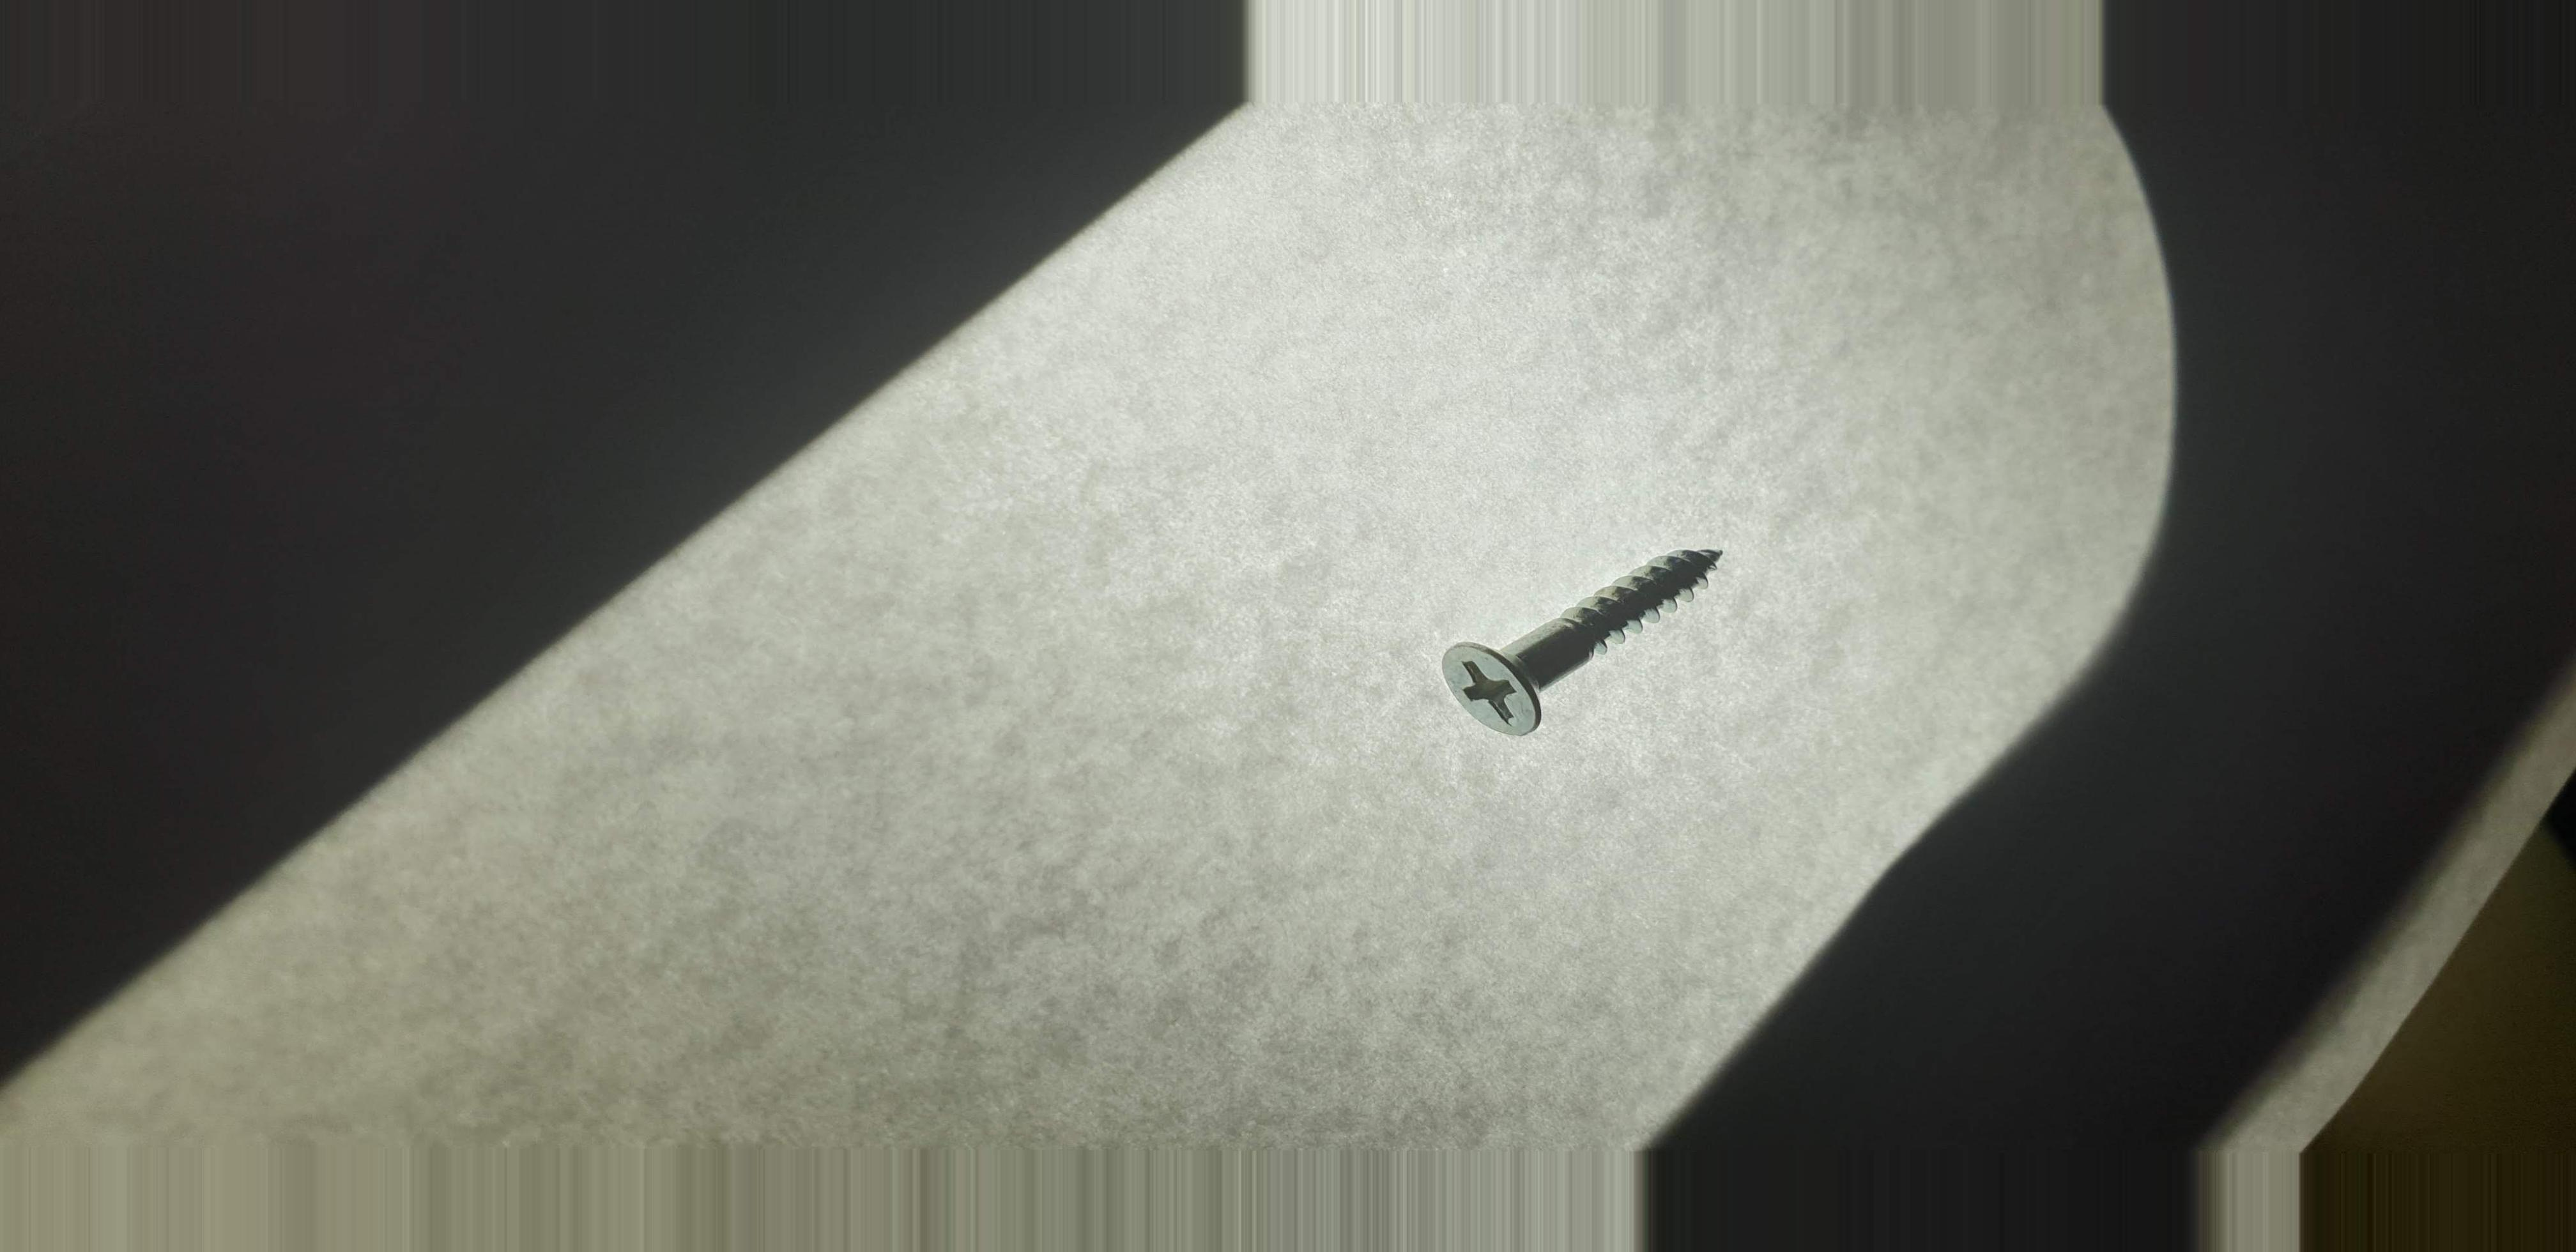S005: (1411, 506, 1766, 767)
